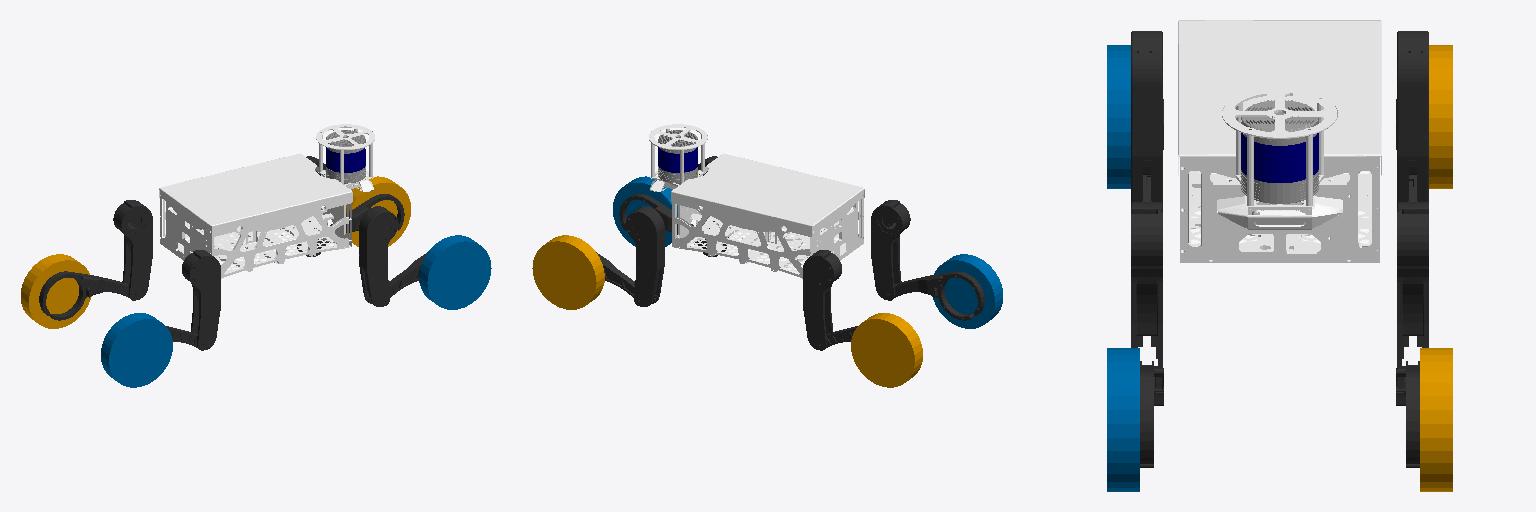
The robot description file, URDF, robot "robot":
<?xml version="1.0" ?>
<robot name="robot">
  <link name="base">
    <visual>
      <origin
        xyz="0 0 0"
        rpy="0 0 0" />
      <geometry>
        <mesh
          filename="package://legowheel2_simplify/meshes/base_link.STL" />
      </geometry>
      <material
        name="">
        <color
          rgba="1 1 1 1" />
      </material>
    </visual>
    <collision>
      <origin rpy="0 0 0" xyz="0 0 0.0955"/>
      <geometry>
        <box size="0.5 0.326 0.191"/>
      </geometry>
    </collision>
    <inertial>
      <origin rpy="0 0 0" xyz="0 0 0"/>
      <mass value="15.664"/>
      <inertia ixx="0.18632093866666666" ixy="0" ixz="0" iyy="0.37391973866666666" iyz="0" izz="0.46519673866666666"/>
    </inertial>
  </link>
  <joint name="RF_HAA" type="fixed">
    <origin rpy="0 0 0" xyz="0.32608 -0.037129 0.069"/>
    <parent link="base"/>
    <child link="RF_hip"/>
    <axis xyz="1 0 0"/>
    <dynamics damping="0" friction="0"/>
    <limit effort="189" lower="0" upper="0" velocity="12.9"/>
  </joint>
  <link name="RF_hip">
    <visual>
      <origin
        xyz="0 0 0"
        rpy="0 0 0" />
      <geometry>
        <mesh
          filename="package://legowheel2_simplify/meshes/RF_hip.STL" />
      </geometry>
      <material
        name="">
        <color
          rgba="0.5098 0.5098 0.5098 1"/>
      </material>
    </visual>
    <collision>
      <origin rpy="1.5707963267948966 0 0" xyz="0 -0.0375 0"/>
      <geometry>
        <cylinder length="0.075" radius="0.05"/>
      </geometry>
    </collision>
    <inertial>
      <origin rpy="0 0 0" xyz="0.000257379708290095 -0.0801036243844498 -0.000157234071201023"/>
      <mass value="1.25"/>
      <inertia ixx="0.001367187500000000" ixy="0" ixz="0" iyy="0.001367187500000000" iyz="0" izz="0.0015625000000000"/>
    </inertial>
  </link>
  <joint name="RF_HFE" type="revolute">
    <origin rpy="0 0 0" xyz="0 -0.14885 0"/>
    <parent link="RF_hip"/>
    <child link="RF_thigh"/>
    <axis xyz="0 1 0"/>
    <limit effort="189" lower="-1.57" upper="1.57" velocity="12.9"/>
  </joint>
  <link name="RF_thigh">
    <visual>
      <origin
        xyz="0 0 0"
        rpy="0 0 0" />
      <geometry>
        <mesh
          filename="package://legowheel2_simplify/meshes/RF_thigh.STL" />
      </geometry>
      <material
        name="">
        <color
          rgba="0.235 0.235 0.235 1" />
      </material>
    </visual>
    <collision>
      <origin rpy="1.5707963267948966 0 0" xyz="0 0.0372125 0"/>
      <geometry>
        <cylinder length="0.075" radius="0.05"/>
      </geometry>
    </collision>
    <collision>
      <origin rpy="0 1.6707963267948966 0" xyz="0 -0.025 -0.125"/>
      <geometry>
        <box size="0.32 0.05 0.072"/>
      </geometry>
    </collision>
    <inertial>
      <origin rpy="0 0 0" xyz="0 0 0"/>
      <mass value="2.928"/>
      <inertia ixx="0.016908312" ixy="0" ixz="-0.001056675" iyy="0.014890135" iyz="-0.003404967" izz="0.005072962"/>
    </inertial>
  </link>
  <joint name="RF_KFE" type="revolute">
    <origin rpy="0 0 0" xyz="0 0 -0.25"/>
    <parent link="RF_thigh"/>
    <child link="RF_calf"/>
    <axis xyz="0 1 0"/>
    <dynamics damping="0" friction="0"/>
    <limit effort="189" lower="-2.618" upper="-0.873" velocity="12.9"/>
  </joint>
  <link name="RF_calf">
    <visual>
      <origin
        xyz="0 -0.05 0"
        rpy="0 0 0" />
      <geometry>
        <mesh
          filename="package://legowheel2_simplify/meshes/RF_calf.STL" />
      </geometry>
      <material
        name="">
        <color
          rgba="0.235 0.235 0.235 1" />
      </material>
    </visual>
    <collision>
      <origin rpy="0 1.5707963267948966 0" xyz="0 -0.025 -0.125"/>
      <geometry>
        <box size="0.26 0.023 0.050"/>
      </geometry>
    </collision>
    <collision>
        <origin xyz="0 -0.0275 -0.26" rpy="1.57079632 0 0"/>
        <geometry>
            <cylinder length="0.055" radius="0.066"/>
        </geometry>
    </collision>
    <inertial>
      <origin rpy="0 0 0" xyz="0 0 0"/>
      <mass value="2.6"/>
      <inertia ixx="0.013215290" ixy="0.000111724" ixz="-0.000758185" iyy="0.015915945" iyz="-0.000611658" izz="0.003734347"/>
    </inertial>
  </link>
  <joint name="RF_Wheel" type="continuous">
    <origin rpy="0 0 0" xyz="0 0 -0.25"/>
    <parent link="RF_calf"/>
    <child link="RF_FOOT"/>
    <axis xyz="0 1 0"/>
    <dynamics damping="0" friction="0"/>
    <limit effort="66" velocity="76.79"/>
  </joint>
  <link name="RF_FOOT">
    <visual>
      <geometry>
        <cylinder length="0.052" radius="0.115"/>
      </geometry>
      <origin rpy="1.5707963267948966 0 0" xyz="0 -0.062 0"/>
      <material name="orange"/>
    </visual>
    <collision>
      <origin rpy="1.5707963267948966 0 0" xyz="0 -0.062 0"/>
      <geometry>
        <cylinder length="0.052" radius="0.115"/>
      </geometry>
    </collision>
    <inertial>
      <mass value="1.6"/>
      <inertia ixx="0.005650533333333333" ixy="0" ixz="0" iyy="0.005650533333333333" iyz="0" izz="0.0105800000000000"/>
    </inertial>
  </link>
  <joint name="LF_HAA" type="fixed">
    <origin rpy="0 0 0" xyz="0.32608 0.039271 0.069"/>
    <parent link="base"/>
    <child link="LF_hip"/>
    <axis xyz="1 0 0"/>
    <dynamics damping="0" friction="0"/>
    <limit effort="189" lower="0" upper="0" velocity="12.9"/>
  </joint>
  <link name="LF_hip">
    <visual>
      <origin
        xyz="0 0 0"
        rpy="0 0 0" />
      <geometry>
        <mesh
          filename="package://legowheel2_simplify/meshes/LF_hip.STL" />
      </geometry>
      <material
        name="">
        <color
          rgba="0.5098 0.5098 0.5098 1" />
      </material>
    </visual>
    <collision>
      <origin rpy="1.5707963267948966 0 0" xyz="0 0.0375 0"/>
      <geometry>
        <cylinder length="0.075" radius="0.05"/>
      </geometry>
    </collision>
    <inertial>
      <origin rpy="0 0 0" xyz="0.00025738 0.080104 0.00015723"/>
      <mass value="1.25"/>
      <inertia ixx="0.001367187500000000" ixy="0" ixz="0" iyy="0.001367187500000000" iyz="0" izz="0.0015625000000000"/>
    </inertial>
  </link>
  <joint name="LF_HFE" type="revolute">
    <origin rpy="0 0 0" xyz="0 0.14885 0"/>
    <parent link="LF_hip"/>
    <child link="LF_thigh"/>
    <axis xyz="0 1 0"/>
    <dynamics damping="0" friction="0"/>
    <limit effort="189" lower="-1.57" upper="1.57" velocity="12.9"/>
  </joint>
  <link name="LF_thigh">
    <visual>
      <origin
        xyz="0 0 0"
        rpy="0 0 0" />
      <geometry>
        <mesh
          filename="package://legowheel2_simplify/meshes/LF_thigh.STL" />
      </geometry>
      <material
        name="">
        <color
          rgba="0.235 0.235 0.235 1" />
      </material>
    </visual>
    <collision>
      <origin rpy="1.5707963267948966 0 0" xyz="0 -0.0372125 0"/>
      <geometry>
        <cylinder length="0.075" radius="0.05"/>
      </geometry>
    </collision>
    <collision>
      <origin rpy="0 1.6707963267948966 0" xyz="0 0.025 -0.125"/>
      <geometry>
        <box size="0.32 0.05 0.072"/>
      </geometry>
    </collision>
    <inertial>
      <origin rpy="0 0 0" xyz="0 0 0"/>
      <mass value="2.928"/>
      <inertia ixx="0.016908312" ixy="0" ixz="-0.001056675" iyy="0.014890135" iyz="-0.003404967" izz="0.005072962"/>
    </inertial>
  </link>
  <joint name="LF_KFE" type="revolute">
    <origin rpy="0 0 0" xyz="0 0 -0.25"/>
    <parent link="LF_thigh"/>
    <child link="LF_calf"/>
    <axis xyz="0 1 0"/>
    <dynamics damping="0" friction="0"/>
    <limit effort="189" lower="-2.618" upper="-0.873" velocity="12.9"/>
  </joint>
  <link name="LF_calf">
    <visual>
      <origin
        xyz="0 0.05 0"
        rpy="0 0 0" />
      <geometry>
        <mesh
          filename="package://legowheel2_simplify/meshes/LF_calf.STL" />
      </geometry>
      <material
        name="">
        <color
          rgba="0.235 0.235 0.235 1" />
      </material>
    </visual>
    <collision>
      <origin rpy="0 1.5707963267948966 0" xyz="0 0.025 -0.125"/>
      <geometry>
        <box size="0.26 0.023 0.050"/>
      </geometry>
    </collision>
    <collision>
        <origin xyz="0 0.0275 -0.26" rpy="1.57079632 0 0"/>
        <geometry>
            <cylinder length="0.055" radius="0.066"/>
        </geometry>
    </collision>
    <inertial>
      <origin rpy="0 0 0" xyz="0 0 0"/>
      <mass value="2.6"/>
      <inertia ixx="0.013215290" ixy="0.000111724" ixz="-0.000758185" iyy="0.015915945" iyz="-0.000611658" izz="0.003734347"/>
    </inertial>
  </link>
  <joint name="LF_Wheel" type="continuous">
    <origin rpy="0 0 0" xyz="0 0 -0.25"/>
    <parent link="LF_calf"/>
    <child link="LF_FOOT"/>
    <axis xyz="0 1 0"/>
    <dynamics damping="0" friction="0"/>
    <limit effort="66" velocity="76.79"/>
  </joint>
  <link name="LF_FOOT">
    <visual>
      <geometry>
        <cylinder length="0.052" radius="0.115"/>
      </geometry>
      <origin rpy="1.5707963267948966 0 0" xyz="0 0.062 0"/>
      <material name="orange"/>
    </visual>
    <collision>
      <origin rpy="1.5707963267948966 0 0" xyz="0 0.062 0"/>
      <geometry>
        <cylinder length="0.052" radius="0.115"/>
      </geometry>
    </collision>
    <inertial>
      <mass value="1.6"/>
      <inertia ixx="0.005650533333333333" ixy="0" ixz="0" iyy="0.005650533333333333" iyz="0" izz="0.0105800000000000"/>
    </inertial>
  </link>
  <joint name="RH_HAA" type="fixed">
    <origin rpy="0 0 0" xyz="-0.32392 -0.037129 0.069"/>
    <parent link="base"/>
    <child link="RH_hip"/>
    <axis xyz="1 0 0"/>
    <dynamics damping="0" friction="0"/>
    <limit effort="189" lower="0" upper="0" velocity="12.9"/>
  </joint>
  <link name="RH_hip">
    <visual>
      <origin
        xyz="0 0 0"
        rpy="0 0 0" />
      <geometry>
        <mesh
          filename="package://legowheel2_simplify/meshes/RH_hip.STL" />
      </geometry>
      <material
        name="">
        <color
          rgba="0.5098 0.5098 0.5098 1"  />
      </material>
    </visual>
    <collision>
      <origin rpy="1.5707963267948966 0 0" xyz="0 -0.0375 0"/>
      <geometry>
        <cylinder length="0.075" radius="0.05"/>
      </geometry>
    </collision>
    <inertial>
      <origin rpy="0 0 0" xyz="-0.000257379842626859 -0.0801036245382516 0.000157234059079289"/>
      <mass value="1.25"/>
      <inertia ixx="0.001367187500000000" ixy="0" ixz="0" iyy="0.001367187500000000" iyz="0" izz="0.0015625000000000"/>
    </inertial>
  </link>
  <joint name="RH_HFE" type="revolute">
    <origin rpy="0 0 0" xyz="0 -0.14885 0"/>
    <parent link="RH_hip"/>
    <child link="RH_thigh"/>
    <axis xyz="0 1 0"/>
    <dynamics damping="0" friction="0"/>
    <limit effort="189" lower="-1.57" upper="1.57" velocity="12.9"/>
  </joint>
  <link name="RH_thigh">
    <visual>
      <origin
        xyz="0 0 0"
        rpy="0 0 0" />
      <geometry>
        <mesh
          filename="package://legowheel2_simplify/meshes/RH_thigh.STL" />
      </geometry>
      <material
        name="">
        <color
          rgba="0.235 0.235 0.235 1" />
      </material>
    </visual>
    <collision>
      <origin rpy="1.5707963267948966 0 0" xyz="0 0.0372125 0"/>
      <geometry>
        <cylinder length="0.075" radius="0.05"/>
      </geometry>
    </collision>
    <collision>
      <origin rpy="0 1.6707963267948966 0" xyz="0 -0.025 -0.125"/>
      <geometry>
        <box size="0.32 0.05 0.072"/>
      </geometry>
    </collision>
    <inertial>
      <origin rpy="0 0 0" xyz="0 0 0"/>
      <mass value="2.928"/>
      <inertia ixx="0.016908312" ixy="0" ixz="-0.001056675" iyy="0.014890135" iyz="-0.003404967" izz="0.005072962"/>
    </inertial>
  </link>
  <joint name="RH_KFE" type="revolute">
    <origin rpy="0 0 0" xyz="0 0 -0.25"/>
    <parent link="RH_thigh"/>
    <child link="RH_calf"/>
    <axis xyz="0 1 0"/>
    <dynamics damping="0" friction="0"/>
    <limit effort="189" lower="0.873" upper="2.618" velocity="12.9"/>
  </joint>
  <link name="RH_calf">
    <visual>
      <origin
        xyz="0 -0.05 0"
        rpy="0 0 0" />
      <geometry>
        <mesh
          filename="package://legowheel2_simplify/meshes/RH_calf.STL" />
      </geometry>
      <material
        name="">
        <color
          rgba="0.235 0.235 0.235 1"  />
      </material>
    </visual>
    <collision>
      <origin rpy="0 1.5707963267948966 0" xyz="0 -0.025 -0.125"/>
      <geometry>
        <box size="0.26 0.023 0.050"/>
      </geometry>
    </collision>
    <collision>
        <origin xyz="0 -0.0275 -0.26" rpy="1.57079632 0 0"/>
        <geometry>
            <cylinder length="0.055" radius="0.066"/>
        </geometry>
    </collision>
    <inertial>
      <origin rpy="0 0 0" xyz="0 0 0"/>
      <mass value="2.6"/>
      <inertia ixx="0.013215290" ixy="0.000111724" ixz="-0.000758185" iyy="0.015915945" iyz="-0.000611658" izz="0.003734347"/>
    </inertial>
  </link>
  <joint name="RH_Wheel" type="continuous">
    <origin rpy="0 0 0" xyz="0 0 -0.25"/>
    <parent link="RH_calf"/>
    <child link="RH_FOOT"/>
    <axis xyz="0 1 0"/>
    <dynamics damping="0" friction="0"/>
    <limit effort="66" velocity="76.79"/>
  </joint>
  <link name="RH_FOOT">
    <visual>
      <geometry>
        <cylinder length="0.052" radius="0.115"/>
      </geometry>
      <origin rpy="1.5707963267948966 0 0" xyz="0 -0.062 0"/>
      <material name="orange"/>
    </visual>
    <collision>
      <origin rpy="1.5707963267948966 0 0" xyz="0 -0.062 0"/>
      <geometry>
        <cylinder length="0.052" radius="0.115"/>
      </geometry>
    </collision>
    <inertial>
      <mass value="1.6"/>
      <inertia ixx="0.005650533333333333" ixy="0" ixz="0" iyy="0.005650533333333333" iyz="0" izz="0.0105800000000000"/>
    </inertial>
  </link>
  <joint name="LH_HAA" type="fixed">
    <origin rpy="0 0 0" xyz="-0.32392 0.039271 0.069"/>
    <parent link="base"/>
    <child link="LH_hip"/>
    <axis xyz="1 0 0"/>
    <dynamics damping="0" friction="0"/>
    <limit effort="189" lower="0" upper="0" velocity="12.9"/>
  </joint>
  <link name="LH_hip">
    <visual>
      <origin
        xyz="0 0 0"
        rpy="0 0 0" />
      <geometry>
        <mesh
          filename="package://legowheel2_simplify/meshes/LH_hip.STL" />
      </geometry>
      <material
        name="">
        <color
          rgba="0.5098 0.5098 0.5098 1" />
      </material>
    </visual>
    <collision>
      <origin rpy="1.5707963267948966 0 0" xyz="0 0.0375 0"/>
      <geometry>
        <cylinder length="0.075" radius="0.05"/>
      </geometry>
    </collision>
    <inertial>
      <origin rpy="0 0 0" xyz="-0.00025738 0.080104 -0.00015723"/>
      <mass value="1.25"/>
      <inertia ixx="0.001367187500000000" ixy="0" ixz="0" iyy="0.001367187500000000" iyz="0" izz="0.0015625000000000"/>
    </inertial>
  </link>
  <joint name="LH_HFE" type="revolute">
    <origin rpy="0 0 0" xyz="0 0.14885 0"/>
    <parent link="LH_hip"/>
    <child link="LH_thigh"/>
    <axis xyz="0 1 0"/>
    <dynamics damping="0" friction="0"/>
    <limit effort="189" lower="-1.57" upper="1.57" velocity="12.9"/>
  </joint>
  <link name="LH_thigh">
    <visual>
      <origin
        xyz="0 0 0"
        rpy="0 0 0" />
      <geometry>
        <mesh
          filename="package://legowheel2_simplify/meshes/LH_thigh.STL" />
      </geometry>
      <material
        name="">
        <color
          rgba="0.235 0.235 0.235 1" />
      </material>
    </visual>
    <collision>
      <origin rpy="1.5707963267948966 0 0" xyz="0 -0.0372125 0"/>
      <geometry>
        <cylinder length="0.075" radius="0.05"/>
      </geometry>
    </collision>
    <collision>
      <origin rpy="0 1.6707963267948966 0" xyz="0 0.025 -0.125"/>
      <geometry>
        <box size="0.32 0.05 0.072"/>
      </geometry>
    </collision>
    <inertial>
      <origin rpy="0 0 0" xyz="0 0 0"/>
      <mass value="2.928"/>
      <inertia ixx="0.016908312" ixy="0" ixz="-0.001056675" iyy="0.014890135" iyz="-0.003404967" izz="0.005072962"/>
    </inertial>
  </link>
  <joint name="LH_KFE" type="revolute">
    <origin rpy="0 0 0" xyz="0 0 -0.25"/>
    <parent link="LH_thigh"/>
    <child link="LH_calf"/>
    <axis xyz="0 1 0"/>
    <dynamics damping="0" friction="0"/>
    <limit effort="189" lower="0.873" upper="2.618" velocity="12.9"/>
  </joint>
  <link name="LH_calf">
    <visual>
      <origin
        xyz="0 0.05 0"
        rpy="0 0 0" />
      <geometry>
        <mesh
          filename="package://legowheel2_simplify/meshes/LH_calf.STL" />
      </geometry>
      <material
        name="">
        <color
          rgba="0.235 0.235 0.235 1"  />
      </material>
    </visual>
    <collision>
      <origin rpy="0 1.5707963267948966 0" xyz="0 0.025 -0.125"/>
      <geometry>
        <box size="0.26 0.023 0.050"/>
      </geometry>
    </collision>
    <collision>
        <origin xyz="0 0.0275 -0.26" rpy="1.57079632 0 0"/>
        <geometry>
            <cylinder length="0.055" radius="0.066"/>
        </geometry>
    </collision>
    <inertial>
      <origin rpy="0 0 0" xyz="0 0 0"/>
      <mass value="2.6"/>
      <inertia ixx="0.013215290" ixy="0.000111724" ixz="-0.000758185" iyy="0.015915945" iyz="-0.000611658" izz="0.003734347"/>
    </inertial>
  </link>
  <joint name="LH_Wheel" type="continuous">
    <origin rpy="0 0 0" xyz="0 0 -0.25"/>
    <parent link="LH_calf"/>
    <child link="LH_FOOT"/>
    <axis xyz="0 1 0"/>
    <dynamics damping="0" friction="0"/>
    <limit effort="66" velocity="76.79"/>
  </joint>
  <link name="LH_FOOT">
    <visual>
      <geometry>
        <cylinder length="0.052" radius="0.115"/>
      </geometry>
      <origin rpy="1.5707963267948966 0 0" xyz="0 0.062 0"/>
      <material name="orange"/>
    </visual>
    <collision>
      <origin rpy="1.5707963267948966 0 0" xyz="0 0.062 0"/>
      <geometry>
        <cylinder length="0.052" radius="0.115"/>
      </geometry>
    </collision>
    <inertial>
      <mass value="1.6"/>
      <inertia ixx="0.005650533333333333" ixy="0" ixz="0" iyy="0.005650533333333333" iyz="0" izz="0.0105800000000000"/>
    </inertial>
  </link>


  <link
    name="Lidar_Fixed_Link">
    <inertial>
      <origin
        xyz="0.046592651456844 0.00109606966364473 0.0182606495335207"
        rpy="0 0 0" />
      <mass
        value="2" />
      <inertia
        ixx="0"
        ixy="0"
        ixz="0"
        iyy="0"
        iyz="0"
        izz="0" />
    </inertial>
    <visual>
      <origin
        xyz="0 0 0"
        rpy="0 0 0" />
      <geometry>
        <mesh
          filename="package://legowheel2_simplify/meshes/Lidar_Fixed_Link.STL" />
      </geometry>
      <material
        name="">
        <color
          rgba="0 0 0.545 1"  />
      </material>
    </visual>
  </link>
  <joint
    name="Lidar"
    type="fixed">
    <origin
      xyz="0 0 0"
      rpy="0 0 0" />
    <parent
      link="base" />
    <child
      link="Lidar_Fixed_Link" />
    <axis
      xyz="0 0 0" />
  </joint>
  <link
    name="Lidar_part_Link">
    <inertial>
      <origin
        xyz="0.32308 0.0010707 0.039388"
        rpy="0 0 0" />
      <mass
        value="0" />
      <inertia
        ixx="0"
        ixy="0"
        ixz="0"
        iyy="0"
        iyz="0"
        izz="0" />
    </inertial>
    <visual>
      <origin
        xyz="0 0 0"
        rpy="0 0 0" />
      <geometry>
        <mesh
          filename="package://legowheel2_simplify/meshes/Lidar_part_Link.STL" />
      </geometry>
      <material
        name="">
        <color
          rgba="0.666 0.666 0.666 1" />
      </material>
    </visual>
    <collision>
      <origin
        xyz="0.322 0 0.21"
        rpy="0 0 0" />
      <geometry>
          <cylinder length="0.150" radius="0.09"/>
      </geometry>
    </collision>
  </link>
  <joint
    name="Lidar_part"
    type="fixed">
    <origin
      xyz="0 0 0"
      rpy="0 0 0" />
    <parent
      link="base" />
    <child
      link="Lidar_part_Link" />
    <axis
      xyz="0 0 0" />
  </joint>

</robot>

--- What the picture shows (computed from the rendered views, not written in the file) ---
3 views of the same robot in one strip: view 1: azimuth 30°, elevation 25°; view 2: azimuth 150°, elevation 25°; view 3: azimuth 270°, elevation 25° (orthographic).
Model robot with 19 links and 18 joints (8 revolute, 4 continuous, 6 fixed), rooted at base, posed all joints at 0 but 4 set to mid-range because 0 is outside their limits (RF_KFE = -1.75, LF_KFE = -1.75, RH_KFE = 1.75, LH_KFE = 1.75).
Visible links, largest first — view 1: base, RH_FOOT, RF_FOOT, LH_FOOT, RF_thigh, LH_thigh, RH_thigh, LH_calf, LF_FOOT, Lidar_part_Link, LF_calf, Lidar_Fixed_Link (+1 smaller); view 2: base, LH_FOOT, LF_FOOT, RH_FOOT, LF_thigh, RH_thigh, LH_thigh, RH_calf, RF_FOOT, Lidar_part_Link, RF_calf, Lidar_Fixed_Link (+1 smaller); view 3: base, RH_thigh, LH_thigh, RF_FOOT, LF_FOOT, RF_thigh, LF_thigh, RH_FOOT, LH_FOOT, Lidar_part_Link, Lidar_Fixed_Link, RF_calf (+1 smaller).
Link boxes in pixels (bbox=[...]): base: bbox=[159, 124, 374, 278]; RH_FOOT: bbox=[101, 313, 172, 387]; RF_FOOT: bbox=[419, 235, 491, 309]; LH_FOOT: bbox=[21, 254, 91, 328]; RF_thigh: bbox=[359, 206, 398, 306]; LH_thigh: bbox=[113, 200, 152, 300]; RH_thigh: bbox=[182, 250, 220, 350]; LH_calf: bbox=[39, 271, 128, 320]; LF_FOOT: bbox=[346, 176, 410, 246]; Lidar_part_Link: bbox=[326, 130, 365, 183]; LF_calf: bbox=[297, 194, 404, 251]; Lidar_Fixed_Link: bbox=[326, 147, 365, 172]; base: bbox=[649, 124, 864, 278]; LH_FOOT: bbox=[851, 313, 922, 387]; LF_FOOT: bbox=[532, 235, 604, 309]; RH_FOOT: bbox=[932, 254, 1002, 328]; LF_thigh: bbox=[625, 206, 664, 306]; RH_thigh: bbox=[871, 200, 910, 300]; LH_thigh: bbox=[803, 250, 841, 350]; RH_calf: bbox=[895, 271, 984, 320]; RF_FOOT: bbox=[613, 176, 677, 246]; Lidar_part_Link: bbox=[658, 130, 697, 183]; RF_calf: bbox=[619, 194, 726, 251]; Lidar_Fixed_Link: bbox=[658, 147, 697, 172]; base: bbox=[1178, 20, 1381, 262]; RH_thigh: bbox=[1131, 31, 1162, 201]; LH_thigh: bbox=[1397, 31, 1428, 201]; RF_FOOT: bbox=[1107, 348, 1139, 491]; LF_FOOT: bbox=[1420, 348, 1452, 491]; RF_thigh: bbox=[1131, 202, 1162, 366]; LF_thigh: bbox=[1397, 202, 1428, 366]; RH_FOOT: bbox=[1107, 45, 1130, 188]; LH_FOOT: bbox=[1429, 45, 1452, 188]; Lidar_part_Link: bbox=[1241, 100, 1318, 203]; Lidar_Fixed_Link: bbox=[1241, 133, 1318, 182]; RF_calf: bbox=[1140, 361, 1163, 467].
Bounding box of the posed robot: 1.37 × 0.5501 × 0.5385 m (x, y, z).
Meshes: 15 distinct files referenced, 11 mesh visuals loaded (11 binary STL); not drawn: 4 (reference not matched to a file when rendering).
